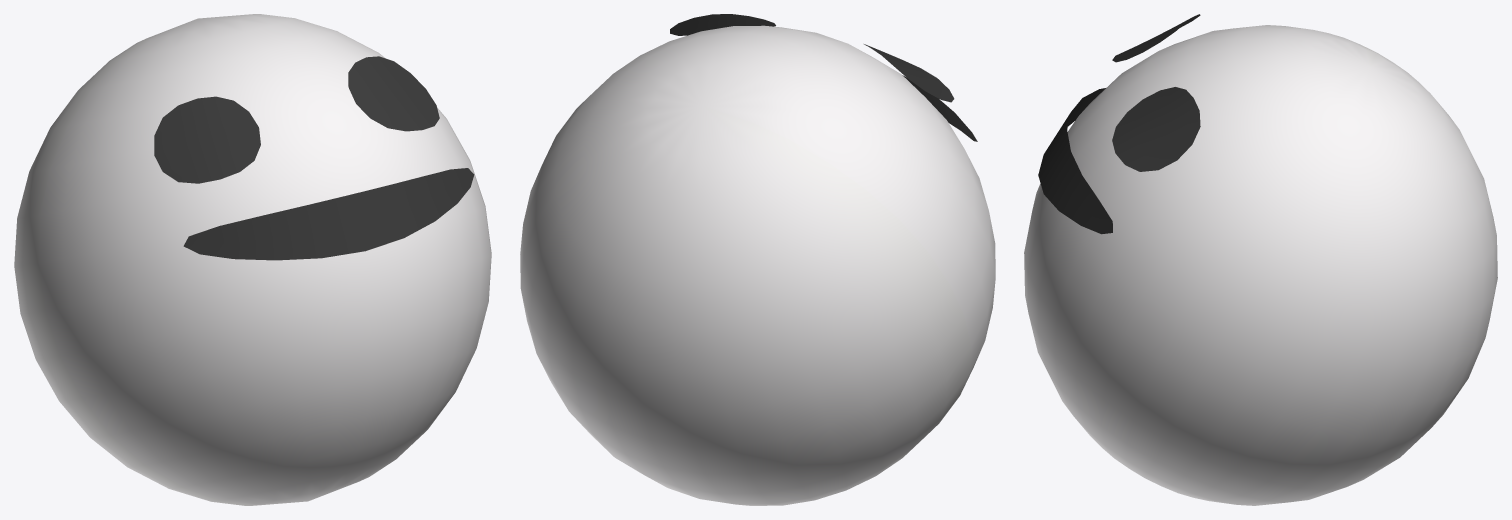
Rendered from Souls  2.fbx.
The picture shows the model from 3 angles, left to right: view 1: azimuth 30°, elevation 25°; view 2: azimuth 150°, elevation 25°; view 3: azimuth 270°, elevation 25°; orthographic projection.
Visible parts, largest first — view 1: Soul 02; view 2: Soul 02; view 3: Soul 02.
Boxes of the visible parts, <box> form: Soul 02: <box>14,14,491,505</box>; Soul 02: <box>520,14,995,505</box>; Soul 02: <box>1024,14,1497,505</box>.
Size of the model in its own units: 3.94 by 4.03 by 3.95.
